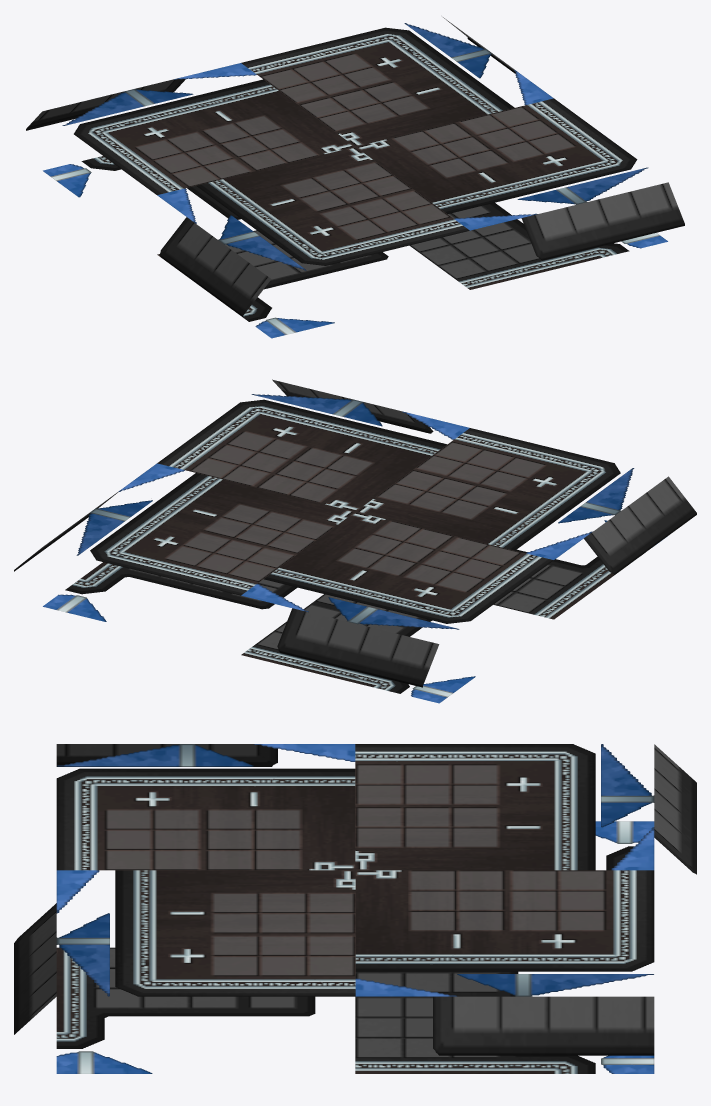
File: seer_stone_base.obj
The picture shows the model from 3 angles, top to bottom: view 1: azimuth 30°, elevation 25°; view 2: azimuth 150°, elevation 25°; view 3: azimuth 270°, elevation 25°; orthographic projection. The views are drawn at different scales.
Visible parts, largest first — view 1: Base_Cube; view 2: Base_Cube; view 3: Base_Cube.
Boxes of the visible parts, bbox=[...] form: Base_Cube: bbox=[26, 17, 684, 338]; Base_Cube: bbox=[14, 379, 696, 703]; Base_Cube: bbox=[14, 744, 696, 1073].
Bounding box in the file's own units: 1 × 0.125 × 1.
